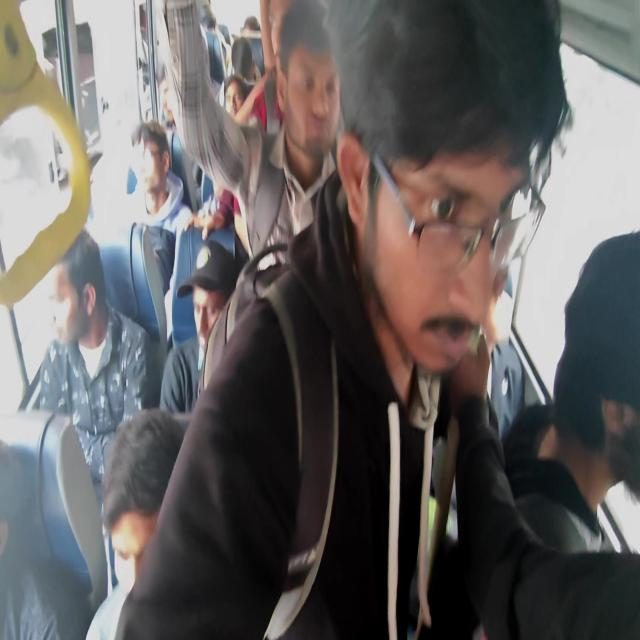person: (349, 40, 543, 373), (561, 254, 640, 524), (92, 455, 178, 640), (286, 32, 354, 176), (0, 436, 51, 614), (48, 269, 119, 391), (180, 265, 244, 389), (121, 142, 170, 197), (227, 84, 261, 137), (161, 56, 180, 131), (228, 49, 264, 79), (241, 16, 280, 43), (198, 6, 224, 34)
